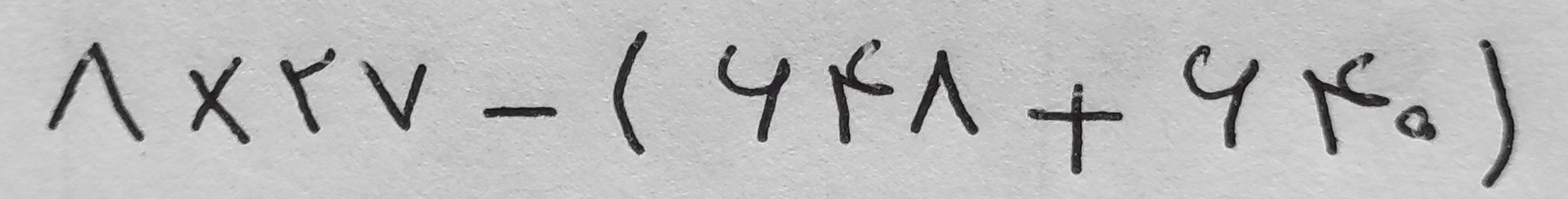character: (1303, 43, 1390, 156), (49, 43, 146, 140), (1029, 85, 1122, 174), (1186, 43, 1260, 149), (826, 37, 893, 145), (719, 45, 787, 145), (188, 54, 255, 145), (1476, 35, 1516, 186), (910, 48, 978, 134), (358, 59, 429, 130), (281, 48, 335, 135), (613, 30, 650, 152), (1394, 102, 1439, 139), (482, 102, 556, 122)
